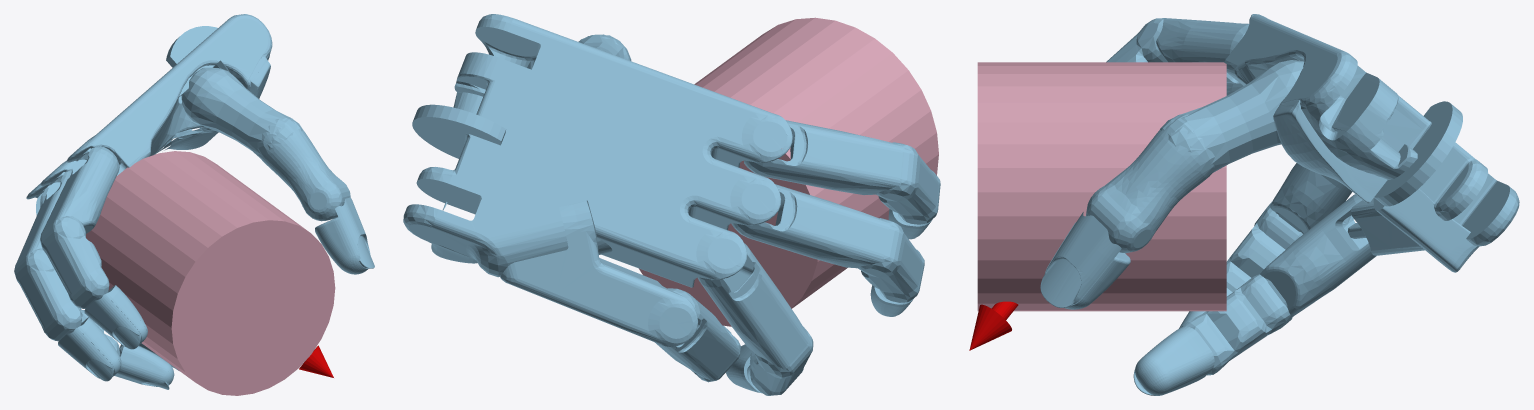
The picture shows the model from 3 angles, left to right: view 1: azimuth 30°, elevation 25°; view 2: azimuth 150°, elevation 25°; view 3: azimuth 270°, elevation 25°; orthographic projection. The views are drawn at different scales.
Parts seen in each view (by area): view 1: world, cylinder_medium.stl; view 2: world, cylinder_medium.stl; view 3: world, cylinder_medium.stl.
Boxes of the visible parts, x1,y1,x2,y2 form: world: (14, 14, 374, 389); cylinder_medium.stl: (85, 151, 335, 395); world: (403, 14, 940, 395); cylinder_medium.stl: (639, 17, 938, 326); world: (969, 14, 1519, 395); cylinder_medium.stl: (977, 62, 1226, 311).
Size of the model in its own units: 0.1499 by 0.1397 by 0.1768.
